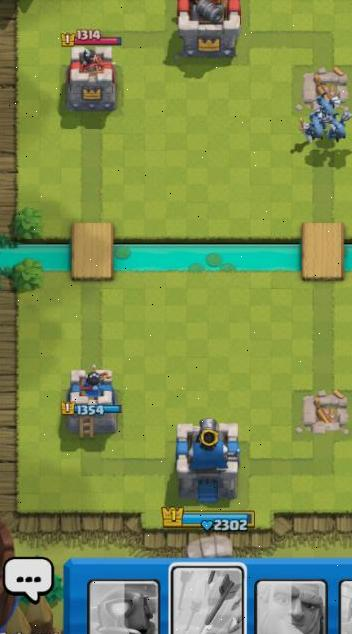player_minions: (300, 109, 329, 141), (325, 109, 352, 142), (313, 89, 343, 116)
